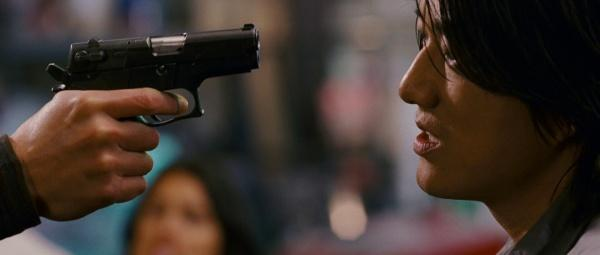Gun: (60, 23, 262, 105)
